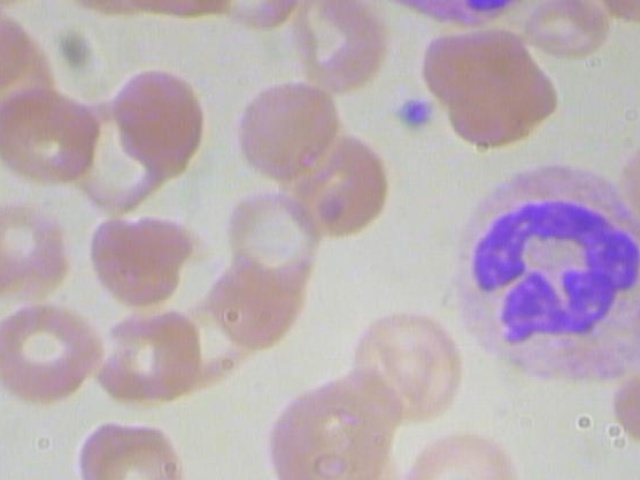Platelets: (391, 94, 441, 136)
RBC: (419, 22, 564, 156), (347, 305, 478, 430), (270, 129, 389, 243), (0, 295, 112, 411), (92, 304, 211, 411), (283, 0, 405, 97), (81, 209, 190, 312), (0, 79, 103, 183), (107, 67, 212, 169), (232, 82, 342, 179), (0, 191, 80, 299), (71, 416, 188, 480), (513, 0, 606, 59), (606, 134, 640, 259)
WBC: (442, 161, 640, 393)
